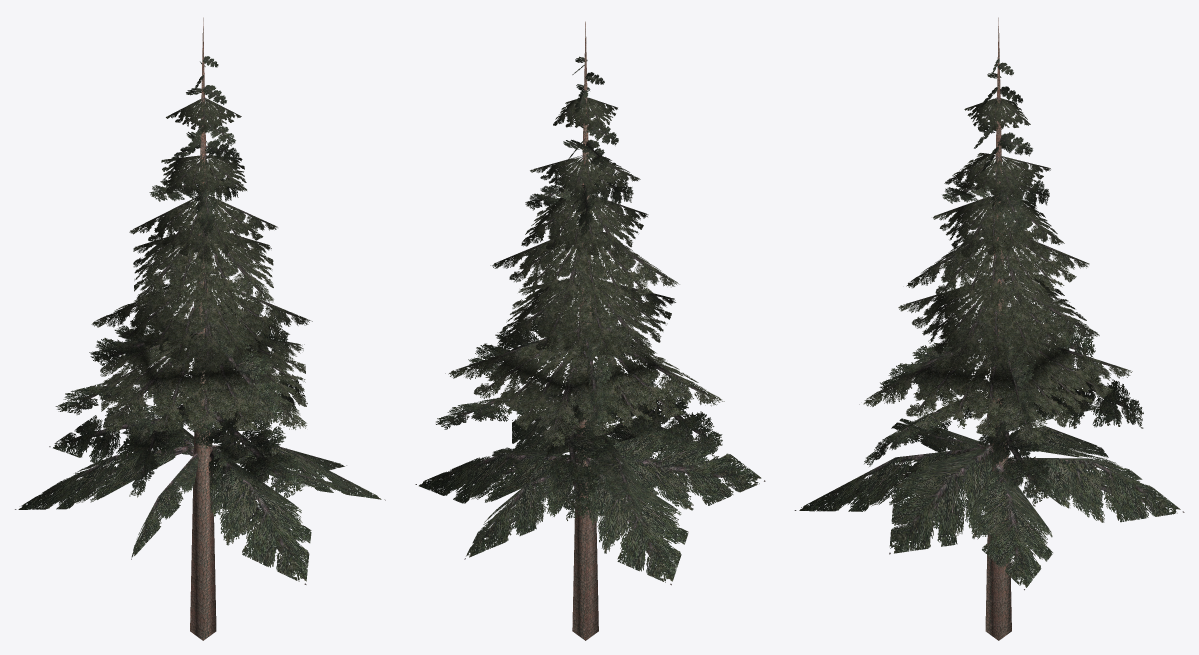
The model's file is conf_mtns_pine_full_l1.fbx.
3 views of the same model, side by side, from view 1: azimuth 30°, elevation 25°; view 2: azimuth 150°, elevation 25°; view 3: azimuth 270°, elevation 25° (orthographic).
Parts seen in each view (by area): view 1: mesh_node; view 2: mesh_node; view 3: mesh_node.
Boxes of the visible parts, left/top/right/bottom form: mesh_node: left=15, top=17, right=385, bottom=640; mesh_node: left=415, top=21, right=765, bottom=640; mesh_node: left=794, top=17, right=1184, bottom=640.
Size of the model in its own units: 9.74 by 19.57 by 11.17.
